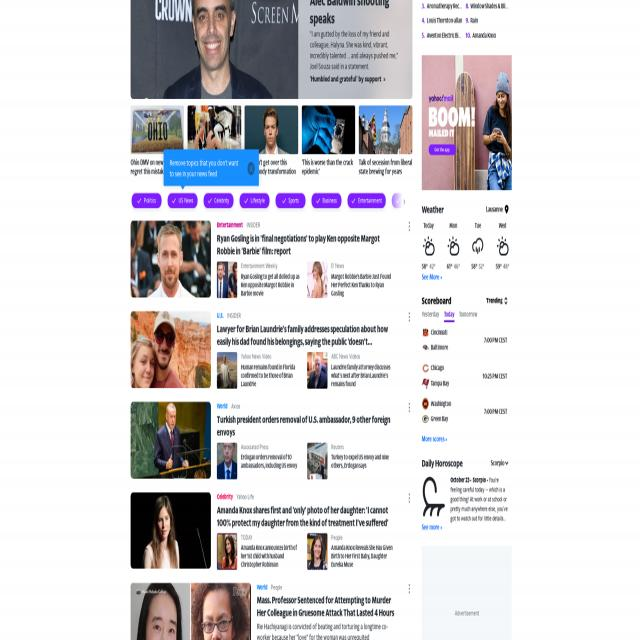button: (130, 0, 298, 99), (422, 56, 512, 190), (131, 311, 211, 388), (131, 492, 211, 569), (131, 221, 211, 297), (131, 402, 211, 478), (130, 105, 184, 154), (359, 105, 413, 154), (188, 105, 241, 154), (245, 105, 298, 154), (302, 105, 355, 154), (217, 442, 237, 480), (307, 442, 327, 480), (217, 352, 237, 389), (307, 352, 327, 389), (217, 533, 237, 570), (307, 533, 327, 570), (217, 262, 237, 298), (307, 262, 327, 298), (348, 193, 386, 208), (276, 193, 306, 208), (312, 193, 342, 208), (422, 311, 440, 322), (459, 311, 477, 322), (444, 311, 454, 322), (422, 326, 429, 339), (422, 377, 429, 390), (422, 397, 429, 410), (422, 342, 429, 354), (422, 362, 429, 374), (422, 413, 429, 425), (248, 163, 254, 175), (406, 582, 412, 594), (406, 402, 412, 413), (406, 492, 412, 503), (504, 204, 510, 214), (136, 196, 142, 205), (171, 196, 177, 205), (207, 196, 213, 205), (243, 196, 249, 205), (281, 196, 287, 205), (315, 196, 321, 205), (395, 196, 401, 205), (351, 196, 356, 205)
field: (484, 458, 510, 468), (486, 296, 509, 304)
